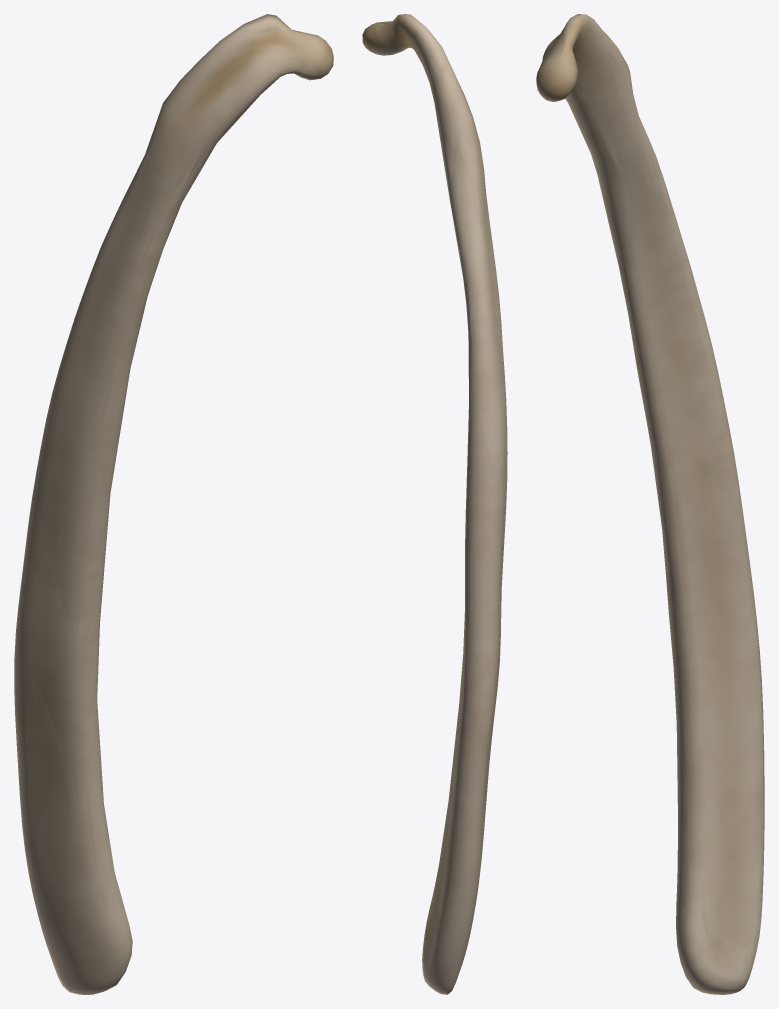
File: Rib R04.fbx
The picture shows the model from 3 angles, left to right: view 1: azimuth 30°, elevation 25°; view 2: azimuth 150°, elevation 25°; view 3: azimuth 270°, elevation 25°; orthographic projection. The views are drawn at different scales.
Parts seen in each view (by area): view 1: Rib R04, Rib R04 low; view 2: Rib R04, Rib R04 low; view 3: Rib R04 low, Rib R04.
Part boxes in pixels (x1,y1,x2,y2): Rib R04: (14, 14, 333, 994); Rib R04 low: (15, 14, 332, 993); Rib R04: (362, 14, 507, 994); Rib R04 low: (362, 15, 505, 994); Rib R04 low: (537, 15, 764, 993); Rib R04: (536, 14, 764, 994).
Bounding box in the file's own units: 9.99 × 41.98 × 8.4.
Materials: 1 (1 with a texture image).
